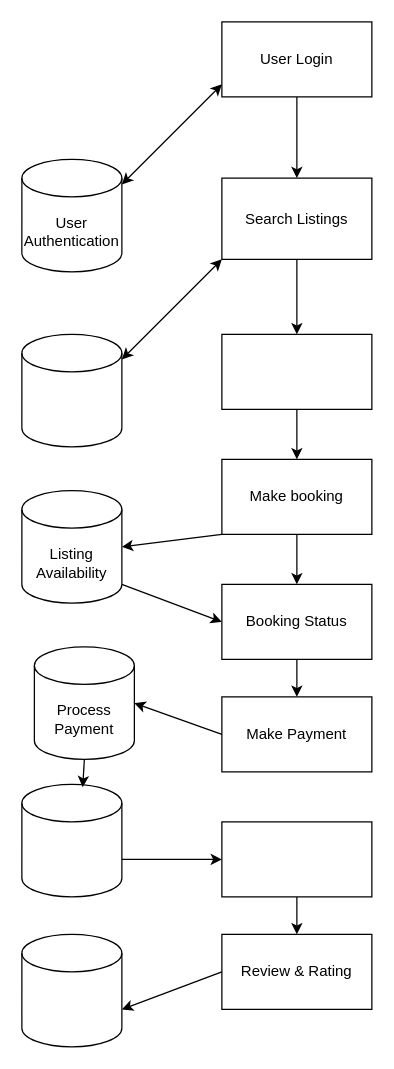
Some shapes in this 394 by 1069 pixel diagram are drawn without their labels. The centre of each missing label's shape, as x and y in pixels:
Confirmation Notification: [296,859]
Retrieve Listings based on filter: [71,390]
Save Review & Rating: [71,990]
Sucessful Payment: [71,840]
View Listings: [296,371]
